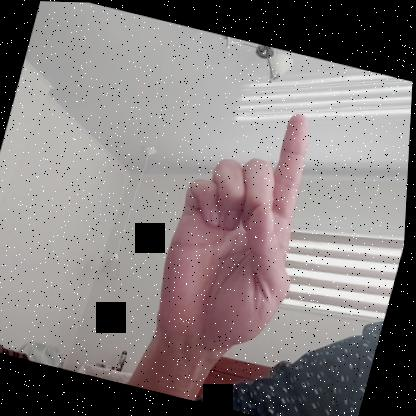D: (146, 89, 335, 365)
